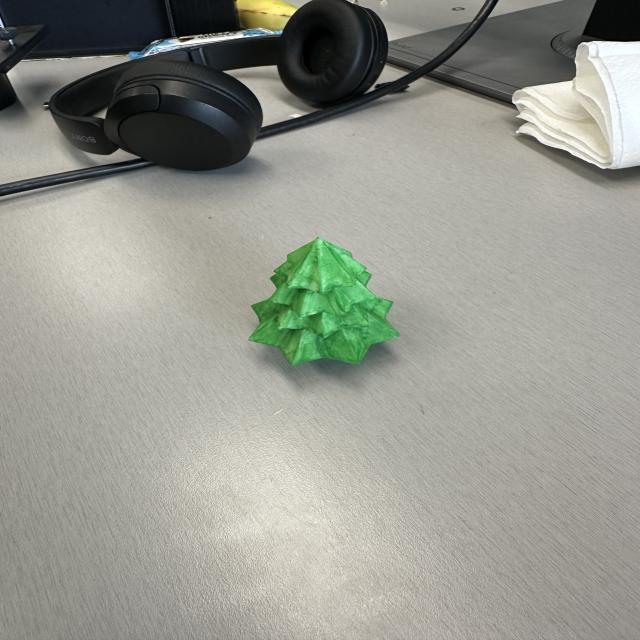tree: (248, 238, 402, 366)
